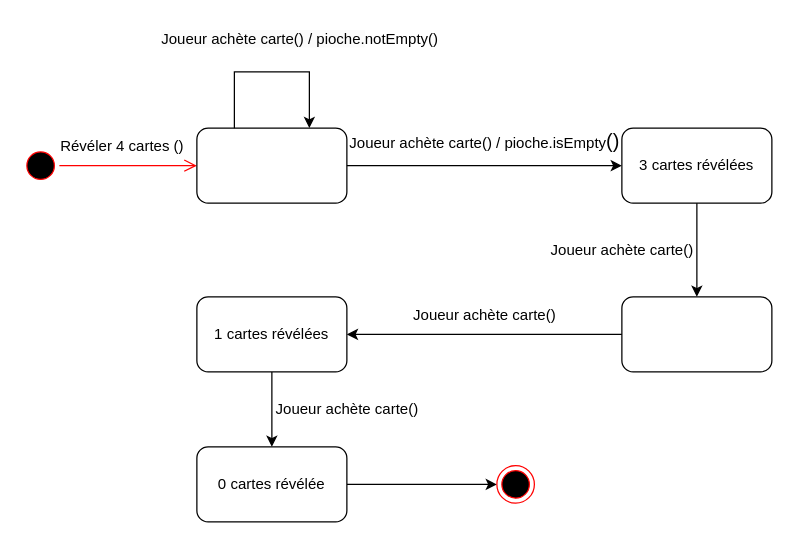
Some shapes in this 794 by 544 pixel diagram are drawn without their labels. The shapes that lost their labels are listed below. From the top down, each one's box as (x1, y1, x2, y2) in pixels, then its label:
(196, 127, 347, 203): Remplie
(621, 296, 772, 372): 2 cartes révélées
